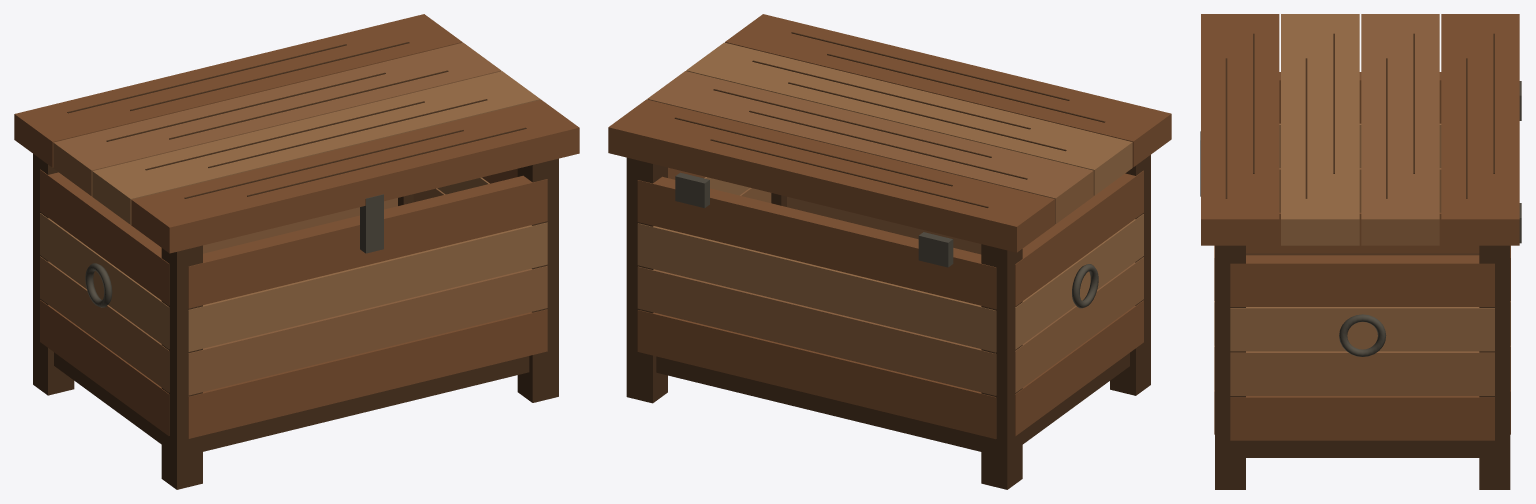
The model's file is LV_RUONG_GO_01.glb.
The picture shows the model from 3 angles, left to right: view 1: azimuth 30°, elevation 25°; view 2: azimuth 150°, elevation 25°; view 3: azimuth 270°, elevation 25°; orthographic projection. The views are drawn at different scales.
Visible parts, largest first — view 1: LV_RUONG_GO_01-surface-825331, chest-lid-hinge-surface-825331, LV_RUONG_GO_01-surface-936540, LV_RUONG_GO_01-surface-9d7048, LV_RUONG_GO_01-surface-50351f, chest-lid-hinge-surface-9d7048, chest-lid-hinge-surface-936540, chest-lid-hinge-surface-50351f, chest-lid-hinge-surface-514b40, LV_RUONG_GO_01-surface-514b40; view 2: LV_RUONG_GO_01-surface-825331, chest-lid-hinge-surface-825331, LV_RUONG_GO_01-surface-936540, LV_RUONG_GO_01-surface-9d7048, LV_RUONG_GO_01-surface-50351f, chest-lid-hinge-surface-9d7048, chest-lid-hinge-surface-936540, chest-lid-hinge-surface-50351f, LV_RUONG_GO_01-surface-514b40; view 3: chest-lid-hinge-surface-825331, LV_RUONG_GO_01-surface-825331, chest-lid-hinge-surface-936540, chest-lid-hinge-surface-9d7048, LV_RUONG_GO_01-surface-50351f, LV_RUONG_GO_01-surface-936540, LV_RUONG_GO_01-surface-9d7048, chest-lid-hinge-surface-50351f, LV_RUONG_GO_01-surface-514b40.
Part boxes in pixels (x1=…): LV_RUONG_GO_01-surface-825331: x1=40, y1=168, x2=547, y2=438; chest-lid-hinge-surface-825331: x1=14, y1=14, x2=579, y2=253; LV_RUONG_GO_01-surface-936540: x1=40, y1=188, x2=547, y2=395; LV_RUONG_GO_01-surface-9d7048: x1=40, y1=177, x2=547, y2=351; LV_RUONG_GO_01-surface-50351f: x1=33, y1=154, x2=558, y2=489; chest-lid-hinge-surface-9d7048: x1=92, y1=71, x2=540, y2=224; chest-lid-hinge-surface-936540: x1=53, y1=42, x2=501, y2=196; chest-lid-hinge-surface-50351f: x1=67, y1=42, x2=526, y2=198; chest-lid-hinge-surface-514b40: x1=360, y1=194, x2=383, y2=253; LV_RUONG_GO_01-surface-514b40: x1=85, y1=263, x2=112, y2=307; LV_RUONG_GO_01-surface-825331: x1=637, y1=167, x2=1143, y2=439; chest-lid-hinge-surface-825331: x1=608, y1=14, x2=1171, y2=252; LV_RUONG_GO_01-surface-936540: x1=637, y1=187, x2=1143, y2=395; LV_RUONG_GO_01-surface-9d7048: x1=637, y1=177, x2=1143, y2=352; LV_RUONG_GO_01-surface-50351f: x1=626, y1=155, x2=1150, y2=489; chest-lid-hinge-surface-9d7048: x1=686, y1=42, x2=1132, y2=195; chest-lid-hinge-surface-936540: x1=647, y1=71, x2=1093, y2=224; chest-lid-hinge-surface-50351f: x1=674, y1=32, x2=1105, y2=207; LV_RUONG_GO_01-surface-514b40: x1=675, y1=172, x2=1098, y2=308; chest-lid-hinge-surface-825331: x1=1201, y1=14, x2=1519, y2=245; LV_RUONG_GO_01-surface-825331: x1=1214, y1=72, x2=1510, y2=440; chest-lid-hinge-surface-936540: x1=1361, y1=14, x2=1439, y2=245; chest-lid-hinge-surface-9d7048: x1=1281, y1=14, x2=1359, y2=245; LV_RUONG_GO_01-surface-50351f: x1=1215, y1=245, x2=1510, y2=489; LV_RUONG_GO_01-surface-936540: x1=1214, y1=168, x2=1510, y2=395; LV_RUONG_GO_01-surface-9d7048: x1=1214, y1=123, x2=1510, y2=351; chest-lid-hinge-surface-50351f: x1=1225, y1=33, x2=1494, y2=198; LV_RUONG_GO_01-surface-514b40: x1=1339, y1=81, x2=1521, y2=356.
Size of the model in its own units: 1.17 by 0.7435 by 0.777.
